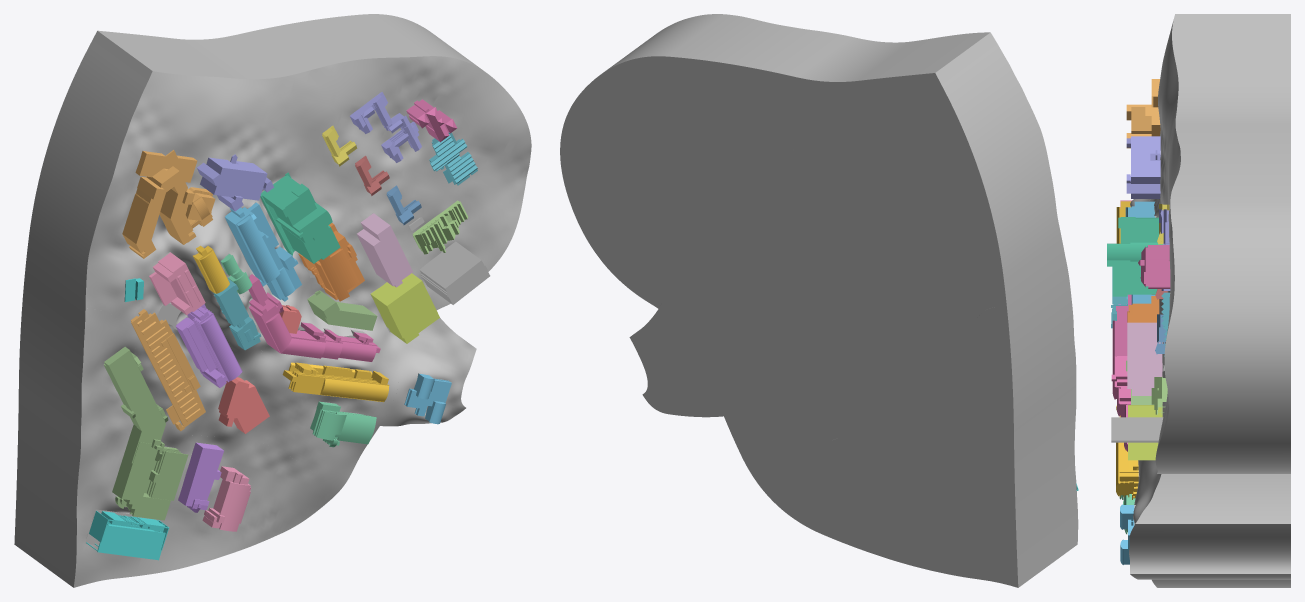
Rendered from scene-colored-e7.glb.
The picture shows the model from 3 angles, left to right: view 1: azimuth 30°, elevation 25°; view 2: azimuth 150°, elevation 25°; view 3: azimuth 270°, elevation 25°; orthographic projection. The views are drawn at different scales.
Visible parts, largest first — view 1: Not Important10, Not Important5, Not Important7, Not Important6, Not Important8, Not Important3, SDE3, EA, Not Important9, E4, T-Lab, EW1 (+22 smaller); view 2: Not Important10, Not Important5, Not Important7, Not Important3, Not Important6, Not Important8, Not Important9; view 3: Not Important5, Not Important9, Not Important7, T-Lab, E6, E3A, E4, No Idea, EA, Raffles Hall Kuok Foundation Building, E5, E7 (+12 smaller).
Boxes of the visible parts, bbox=[...] form: Not Important10: bbox=[14, 265, 334, 587]; Not Important5: bbox=[225, 14, 531, 309]; Not Important7: bbox=[30, 30, 298, 267]; Not Important6: bbox=[25, 220, 263, 435]; Not Important8: bbox=[194, 352, 400, 495]; Not Important3: bbox=[212, 155, 415, 365]; SDE3: bbox=[103, 346, 188, 520]; EA: bbox=[122, 150, 215, 258]; Not Important9: bbox=[380, 318, 476, 426]; E4: bbox=[248, 274, 380, 361]; T-Lab: bbox=[260, 172, 340, 263]; EW1: bbox=[130, 309, 205, 431]; Not Important10: bbox=[763, 264, 1078, 587]; Not Important5: bbox=[560, 14, 862, 308]; Not Important7: bbox=[792, 32, 1059, 268]; Not Important3: bbox=[659, 154, 886, 357]; Not Important6: bbox=[836, 214, 1066, 432]; Not Important8: bbox=[701, 345, 900, 490]; Not Important9: bbox=[629, 309, 723, 417]; Not Important5: bbox=[1155, 118, 1290, 473]; Not Important9: bbox=[1129, 474, 1290, 579]; Not Important7: bbox=[1158, 14, 1290, 204]; T-Lab: bbox=[1107, 217, 1162, 296]; E6: bbox=[1127, 322, 1162, 395]; E3A: bbox=[1126, 136, 1160, 198]; E4: bbox=[1111, 294, 1131, 451]; No Idea: bbox=[1111, 417, 1163, 442]; EA: bbox=[1126, 79, 1160, 148]; Raffles Hall Kuok Foundation Building: bbox=[1138, 245, 1170, 288]; E5: bbox=[1116, 405, 1138, 499]; E7: bbox=[1128, 405, 1162, 460].
Size of the model in its own units: 544 by 566 by 181.
